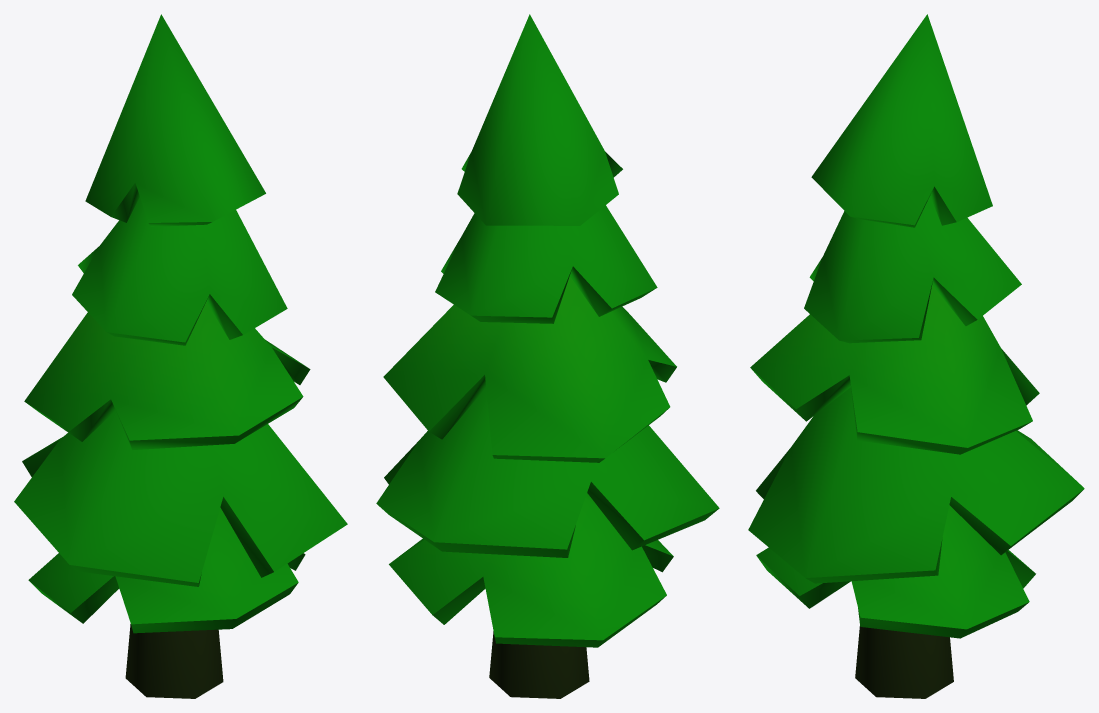
File: tree.fbx
The picture shows the model from 3 angles, left to right: view 1: azimuth 30°, elevation 25°; view 2: azimuth 150°, elevation 25°; view 3: azimuth 270°, elevation 25°; orthographic projection. The views are drawn at different scales.
Visible parts, largest first — view 1: tree; view 2: tree; view 3: tree.
Boxes of the visible parts, x1,y1,x2,y2 form: tree: (14, 14, 347, 698); tree: (376, 14, 719, 698); tree: (748, 14, 1084, 698).
Size of the model in its own units: 309 by 702 by 322.
